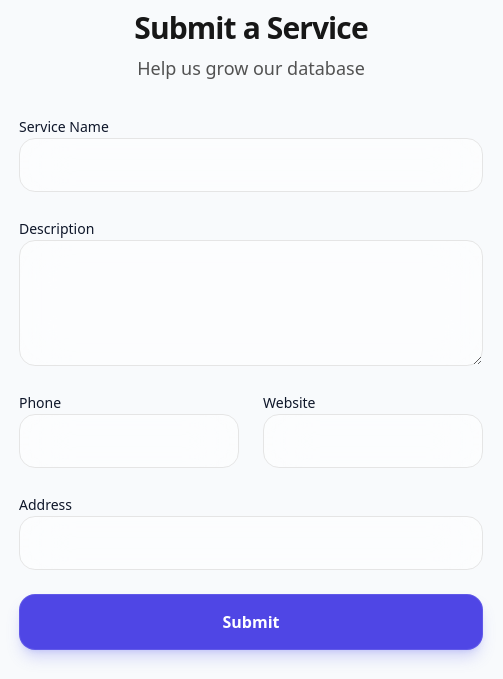
Scenario: SubmitServiceForm › handles successful submission
The image size is (503, 679).
Fill out form
In the field labelled "Service Name": point(251, 165) x1=19 y1=138 x2=483 y2=192, type "Test Service"
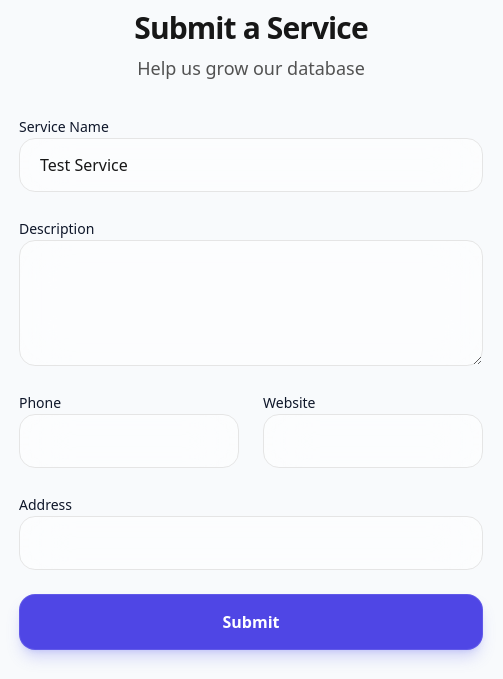
In the text box labelled "Description": point(251, 303) x1=19 y1=240 x2=483 y2=366, type "A very good service description that is long enough."
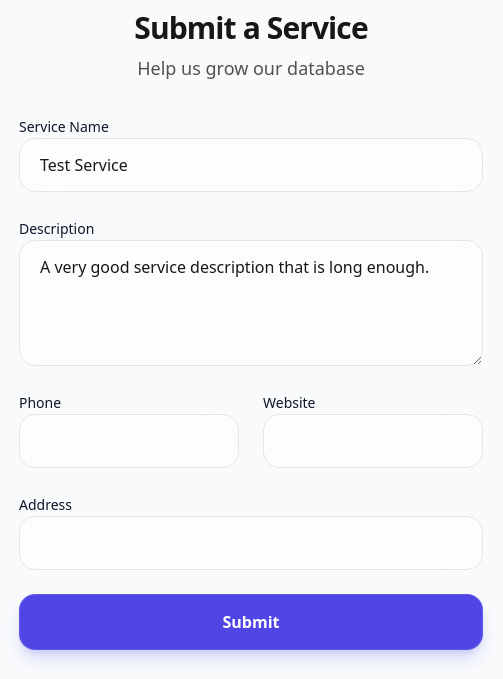
Click the button "Submit": point(251, 622) x1=19 y1=594 x2=483 y2=650
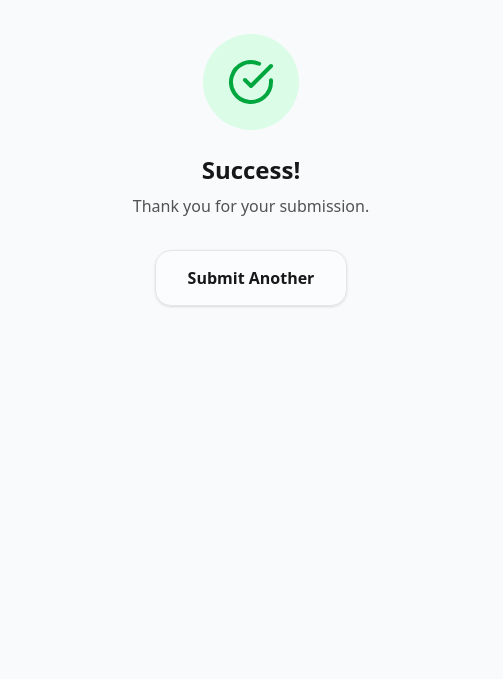
Check: the heading "Success!" is shown, box x1=202 y1=153 x2=300 y2=186
